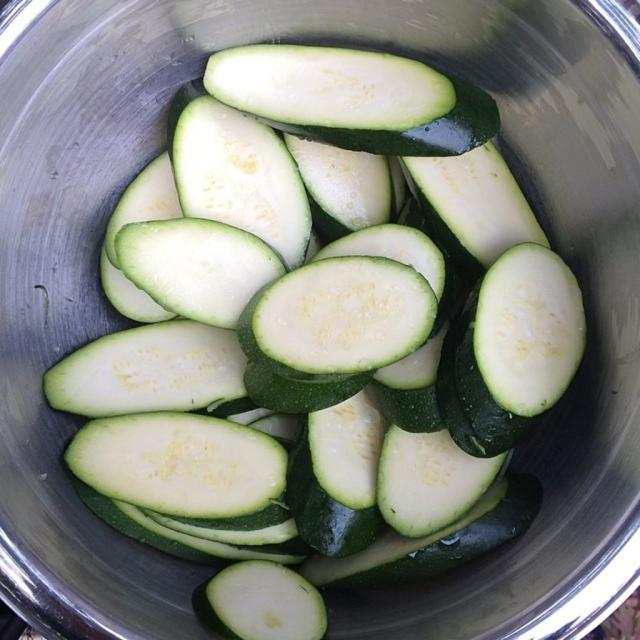Zucchini: (67, 0, 640, 623), (231, 255, 444, 383), (459, 233, 587, 443), (64, 406, 287, 522), (395, 135, 561, 286), (171, 96, 308, 269), (45, 312, 266, 413), (283, 63, 508, 162), (113, 217, 290, 336), (209, 49, 460, 132), (93, 144, 198, 327), (381, 417, 504, 543), (310, 383, 404, 522), (202, 558, 325, 639)
